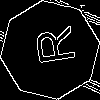R: (25, 25, 76, 68)
